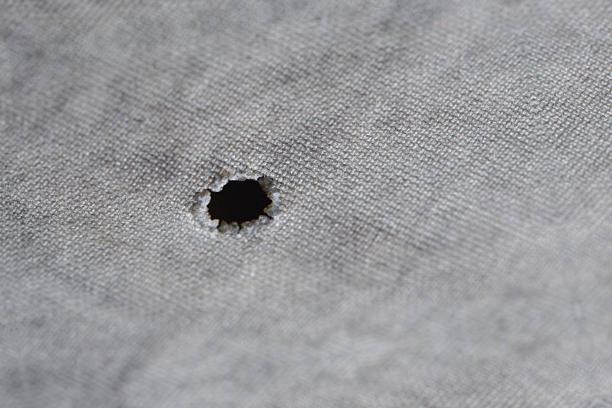hole: (190, 166, 289, 236)
